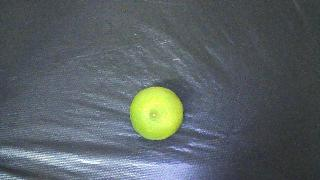LOCAL: (130, 87, 183, 140)
